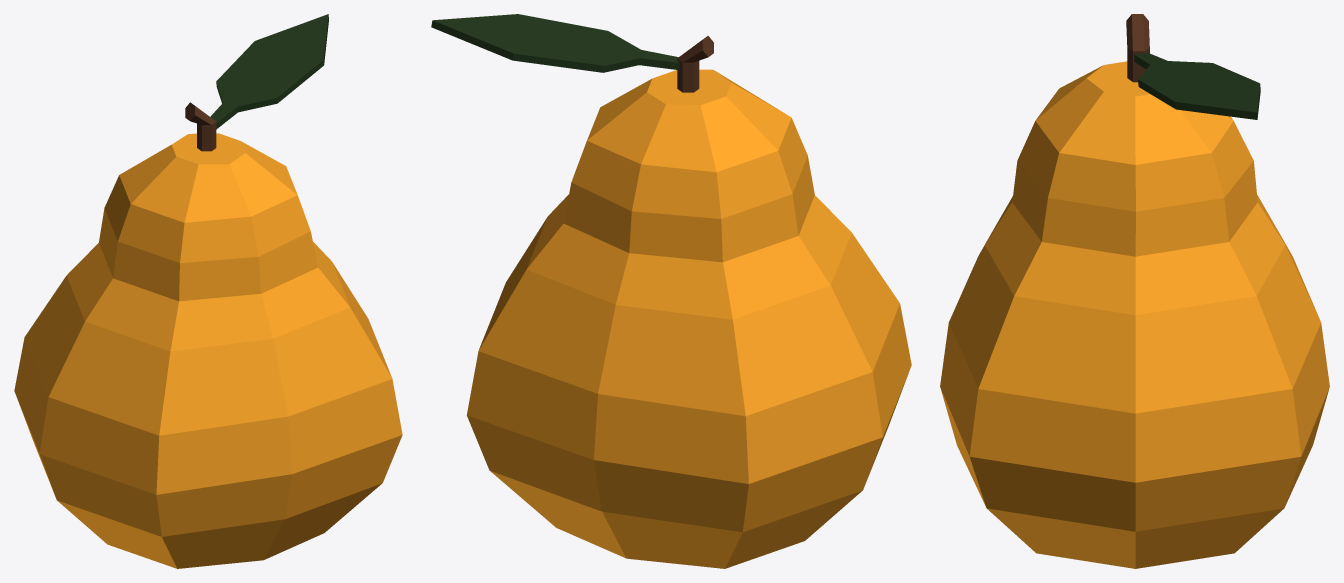
File: Pear_1.fbx
The picture shows the model from 3 angles, left to right: view 1: azimuth 30°, elevation 25°; view 2: azimuth 150°, elevation 25°; view 3: azimuth 270°, elevation 25°; orthographic projection. The views are drawn at different scales.
Visible parts, largest first — view 1: Pear_1; view 2: Pear_1; view 3: Pear_1.
Boxes of the visible parts, box(x1,y1,x2,y2) form: Pear_1: box(14, 14, 402, 568); Pear_1: box(431, 14, 911, 568); Pear_1: box(940, 14, 1329, 568).
Size of the model in its own units: 20.09 by 23.92 by 17.01.
